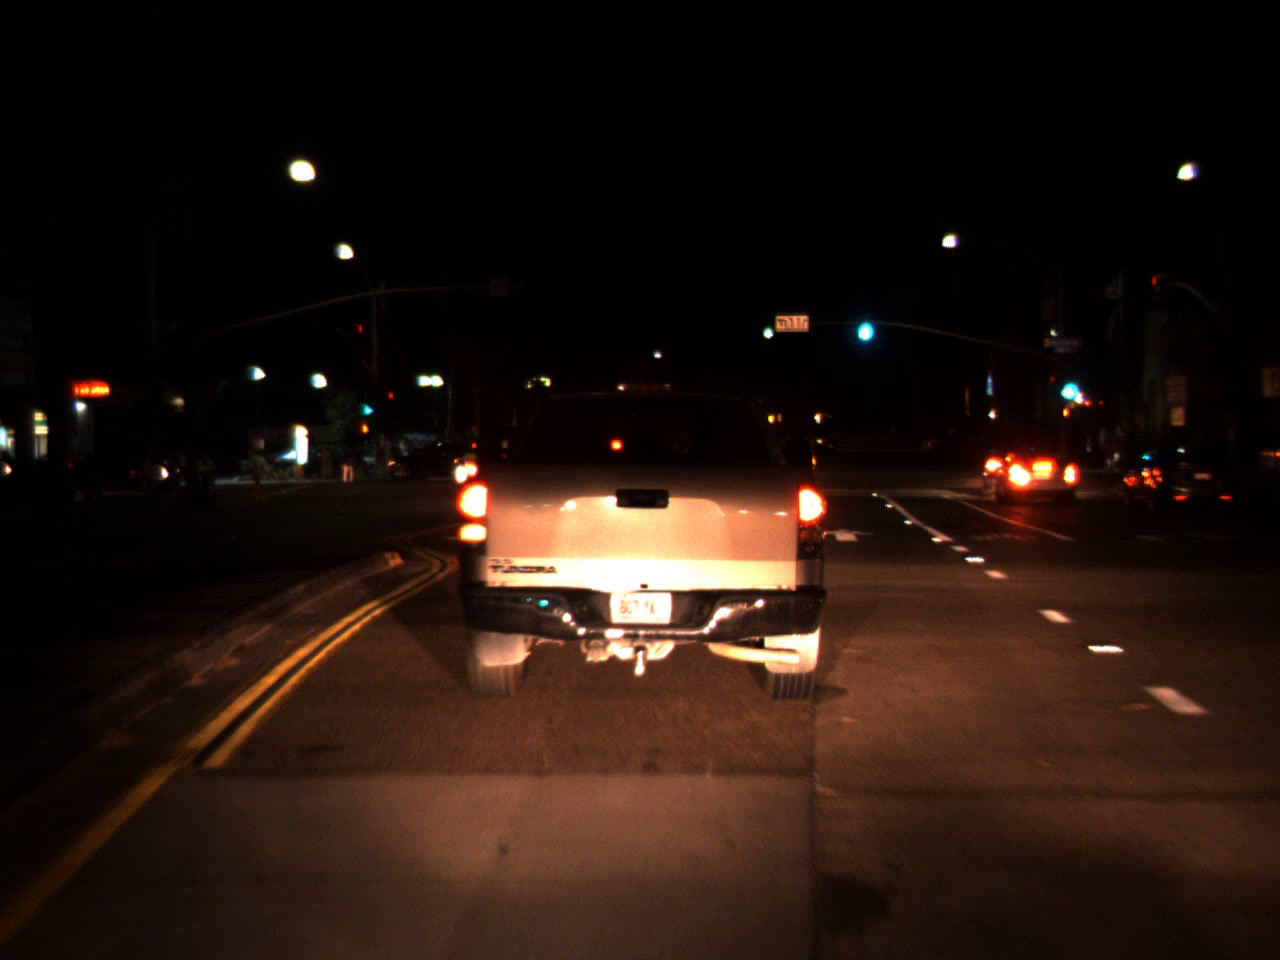go: (1055, 360, 1082, 408), (850, 301, 877, 348), (356, 387, 377, 423), (760, 313, 774, 343)
